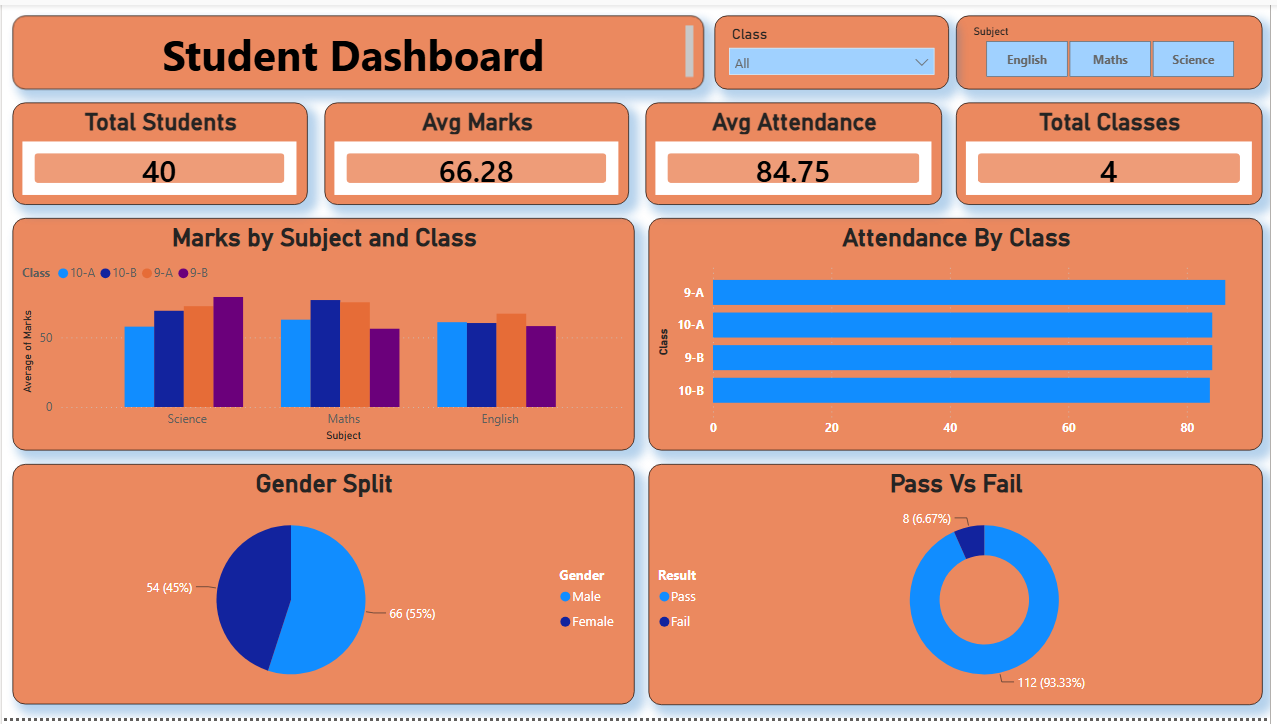

Layout of this report page (visuals, bound fields, positions):
{"tool":"powerbi","page":{"name":"Page 1","canvas":[1280,720],"ordinal":0},"visuals":[{"type":"textbox","box":[11.3,11.3,697.9,74.5],"z":0},{"type":"slicer","fields":{"Values":["StudentData.Subject"]},"box":[963.4,11.3,309.3,74.5],"z":1000},{"type":"clusteredColumnChart","title":"Marks by Subject and Class","fields":{"Category":["StudentData.Subject"],"Series":["StudentData.Class"],"Y":["Avg(StudentData.Marks)"]},"box":[11.3,215.4,628.3,234.8],"z":2000},{"type":"clusteredBarChart","title":"Attendance By Class","fields":{"Category":["StudentData.Class"],"Y":["Avg(StudentData.Attendance %)"]},"box":[652.5,215.4,620.2,234.8],"z":3000},{"type":"pieChart","title":"Gender Split","fields":{"Category":["StudentData.Gender"],"Y":["CountNonNull(StudentData.StudentID)"]},"box":[11.3,463.1,628.3,242.9],"z":4000},{"type":"donutChart","title":"Pass Vs Fail","fields":{"Category":["StudentData.Result"],"Y":["CountNonNull(StudentData.StudentID)"]},"box":[653,463,620,243],"z":5000},{"type":"slicer","fields":{"Values":["StudentData.Class"]},"box":[718.9,11.3,236.4,74.5],"z":6000},{"type":"cardVisual","title":"Total Students ","fields":{"Data":["Count(StudentData.StudentName)"]},"box":[11.3,98.8,297.9,103.6],"z":7000},{"type":"cardVisual","title":"Avg Marks","fields":{"Data":["Avg(StudentData.Marks)"]},"box":[325.5,98.8,307.7,103.6],"z":8000},{"type":"cardVisual","title":"Avg Attendance","fields":{"Data":["Avg(StudentData.Attendance %)"]},"box":[649.3,98.8,299.6,103.6],"z":9000},{"type":"cardVisual","title":"Total Classes ","fields":{"Data":["Count(StudentData.Class)"]},"box":[963.4,98.8,309.3,103.6],"z":10000}]}

Visuals, with their boxes in screenshot pixels (x1, y1, x2, y2), scaled from the page's 1280x720 canvas onto the 1277x724 screenshot:
textbox: x1=11, y1=11, x2=708, y2=86
slicer - StudentData.Subject: x1=961, y1=11, x2=1270, y2=86
"Marks by Subject and Class" clusteredColumnChart: x1=11, y1=217, x2=638, y2=453
"Attendance By Class" clusteredBarChart: x1=651, y1=217, x2=1270, y2=453
"Gender Split" pieChart: x1=11, y1=466, x2=638, y2=710
"Pass Vs Fail" donutChart: x1=651, y1=466, x2=1270, y2=710
slicer - StudentData.Class: x1=717, y1=11, x2=953, y2=86
"Total Students " cardVisual: x1=11, y1=99, x2=308, y2=204
"Avg Marks" cardVisual: x1=325, y1=99, x2=632, y2=204
"Avg Attendance" cardVisual: x1=648, y1=99, x2=947, y2=204
"Total Classes " cardVisual: x1=961, y1=99, x2=1270, y2=204
